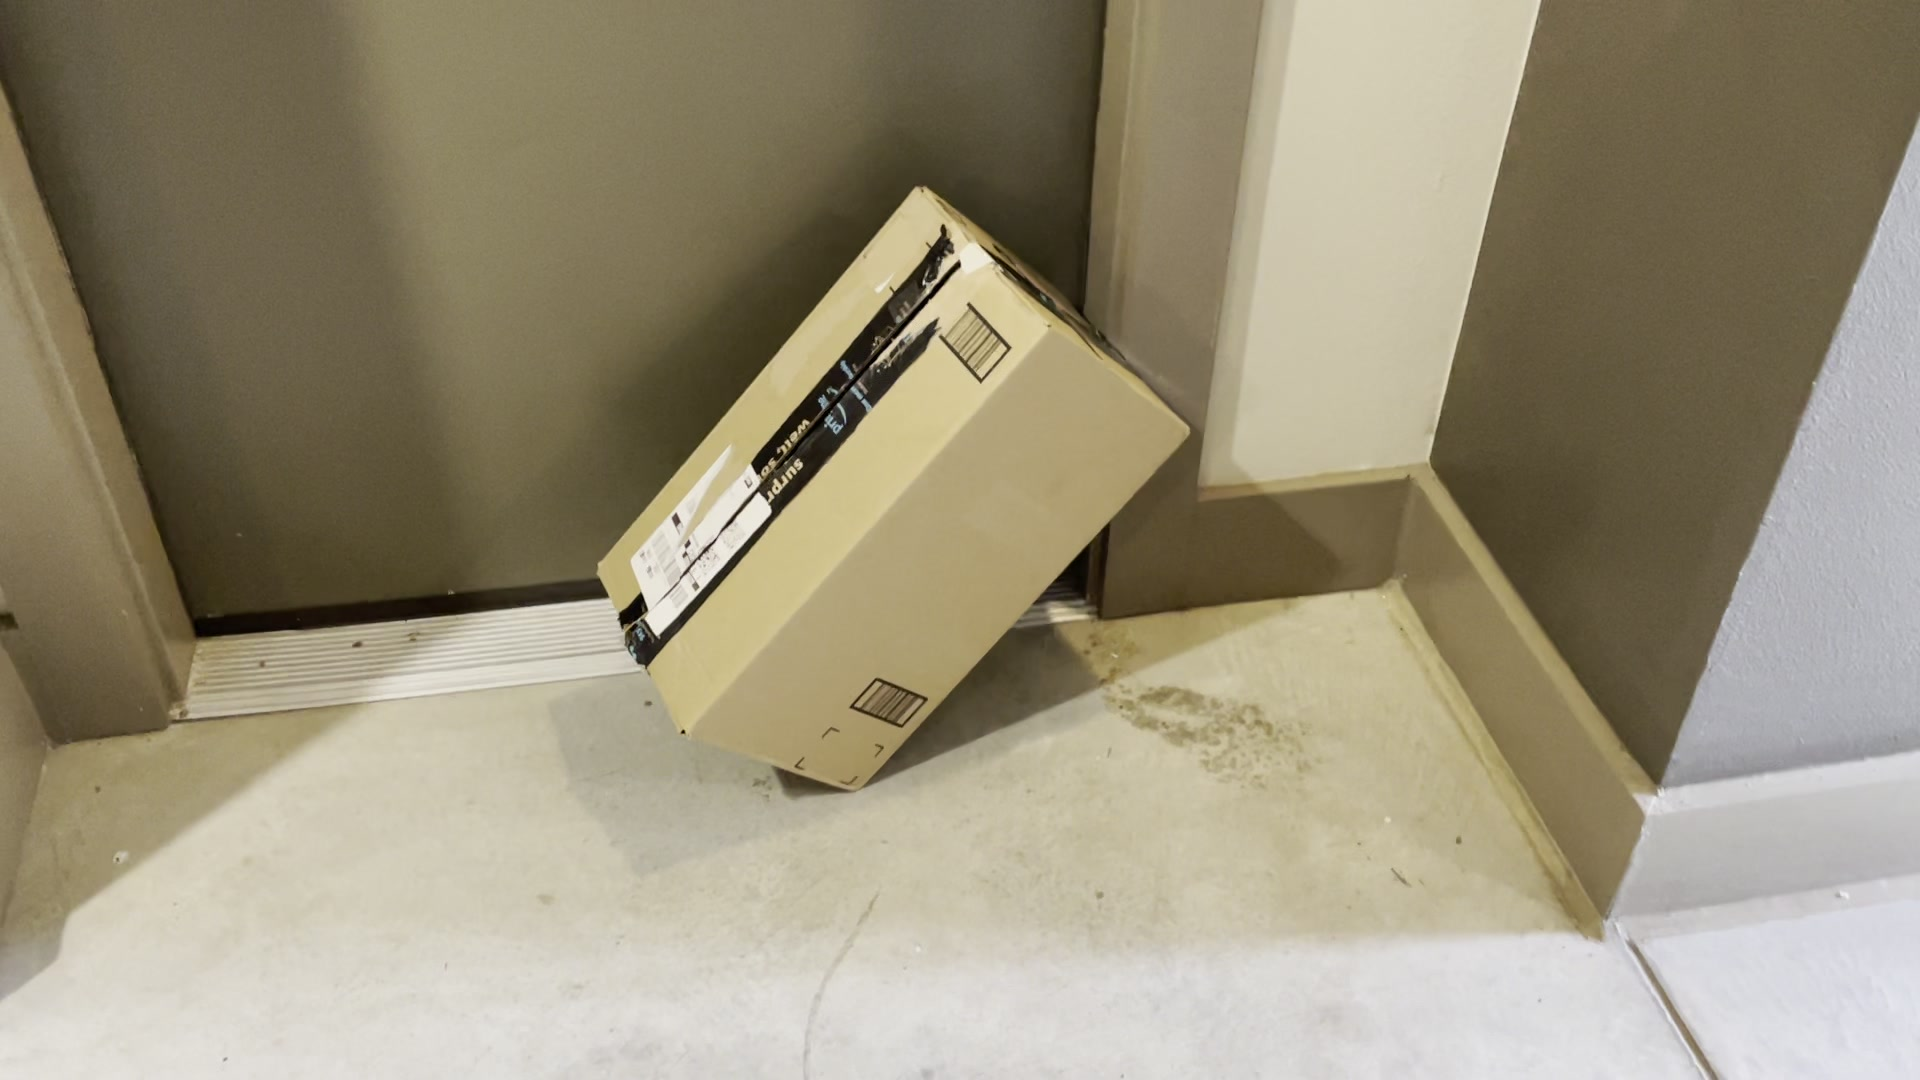box: (628, 175, 1203, 799)
